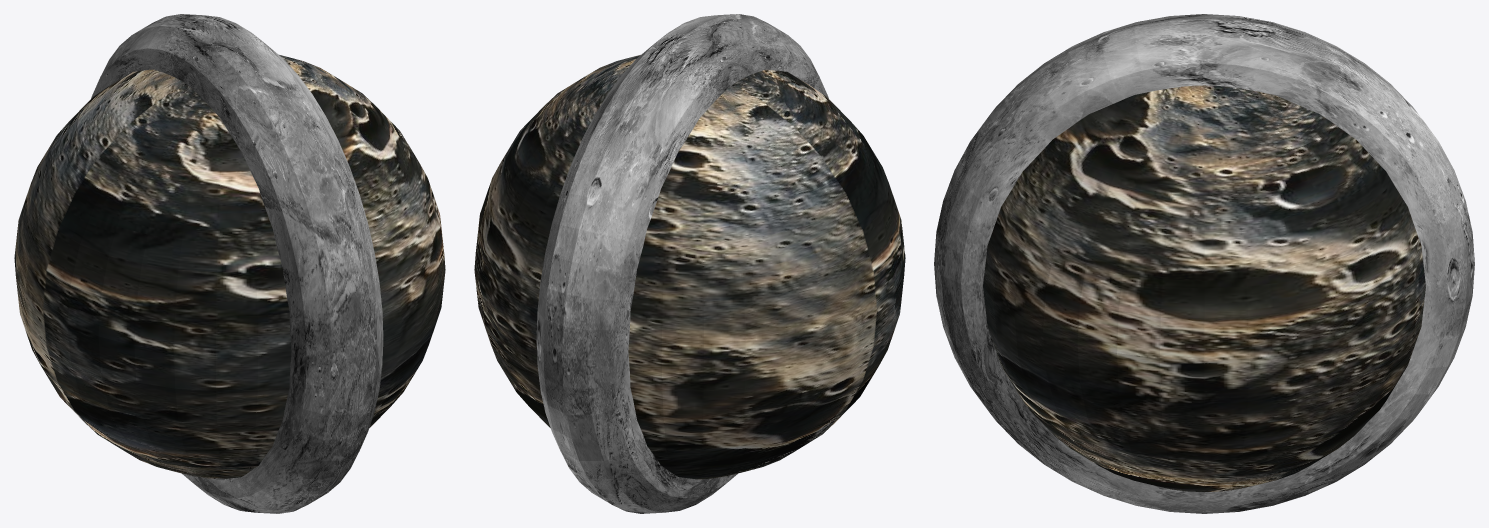
Rendered from Skorbin.fbx.
3 renders of one model, left to right at view 1: azimuth 30°, elevation 25°; view 2: azimuth 150°, elevation 25°; view 3: azimuth 270°, elevation 25°, orthographic. The views are drawn at different scales.
Visible parts, largest first — view 1: Sphere, Torus; view 2: Sphere, Torus; view 3: Sphere, Torus.
Part boxes in pixels (x1,y1,x2,y2): Sphere: (14,55,445,479); Torus: (91,14,383,513); Sphere: (474,55,905,479); Torus: (536,14,828,513); Sphere: (983,85,1425,492); Torus: (934,14,1474,513).
Bounding box in the file's own units: 211 × 250 × 250.
2 materials, 2 textured.
